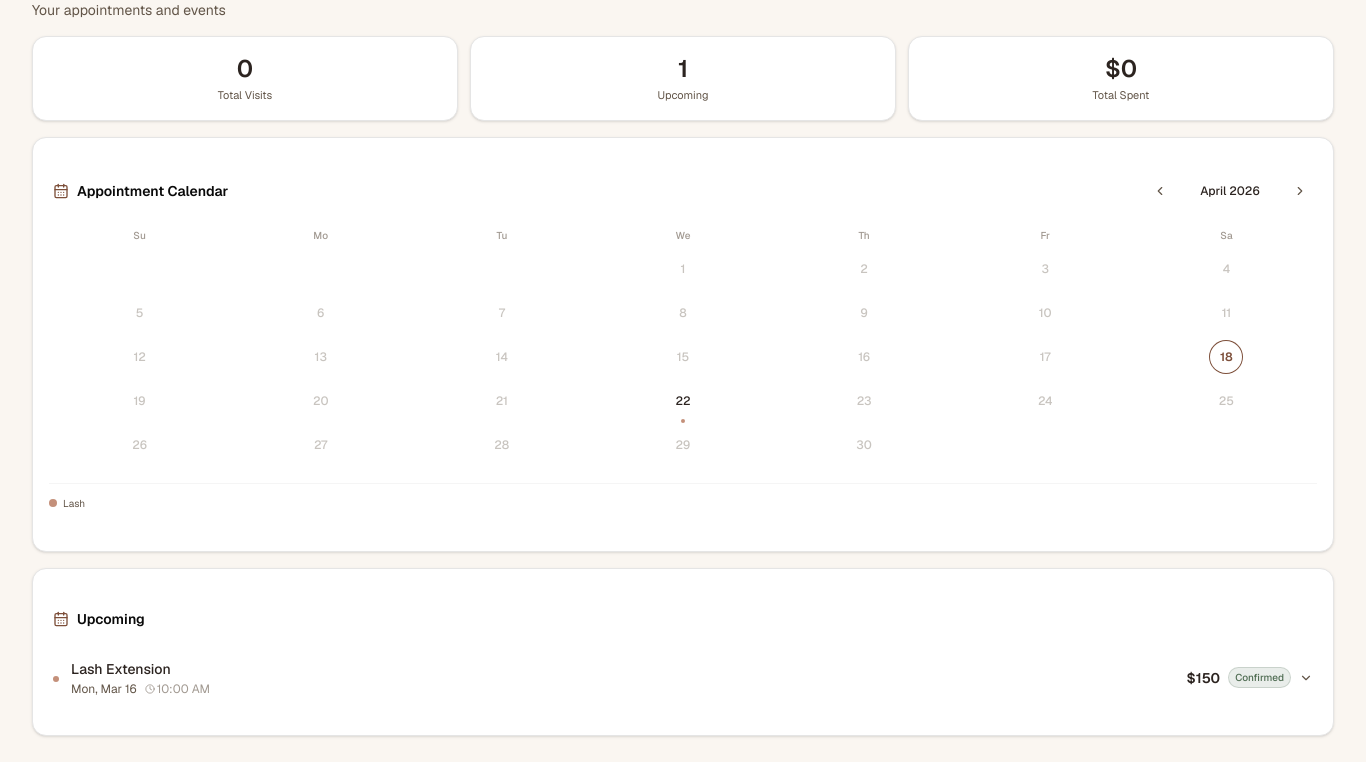
Scenario: ClientBookingsPage › booking card expansion › collapses expanded card on second click
(page scrolled)
# First click expands the card
Click the button "Lash Extension".
click(121, 668)  # box [33,644,1333,710]
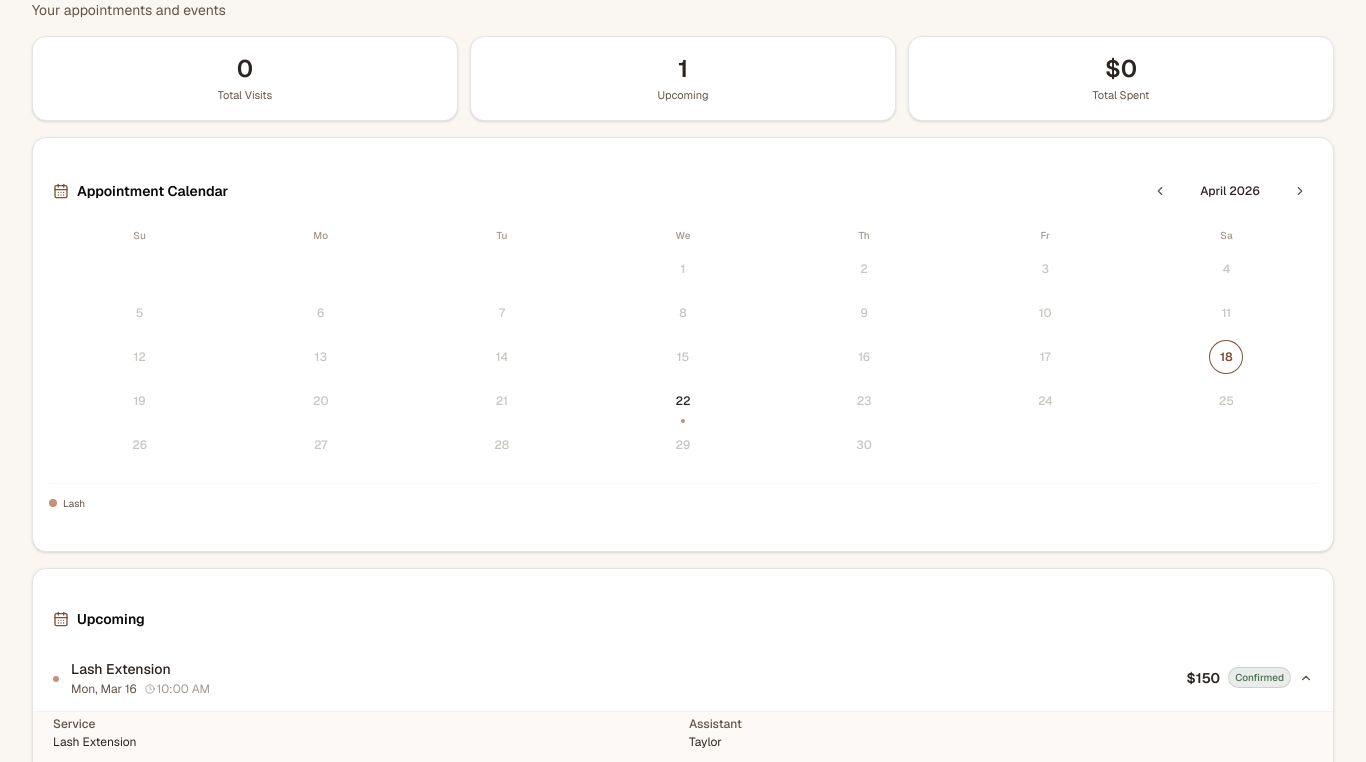
Check: the text "Taylor" is shown, box [689,734,722,750]
Click the button "Lash Extension".
click(121, 668)  # box [33,644,1333,710]
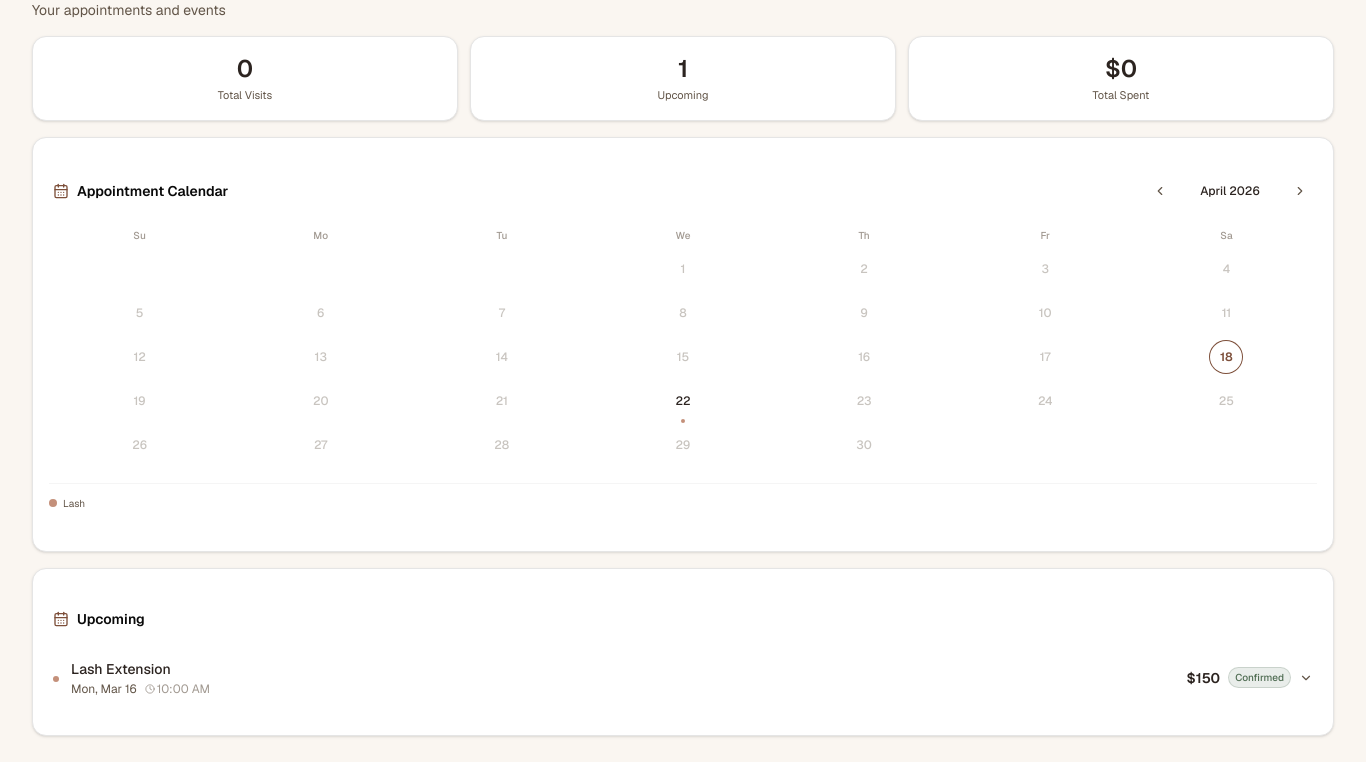
Check: the text "Taylor" is gone
